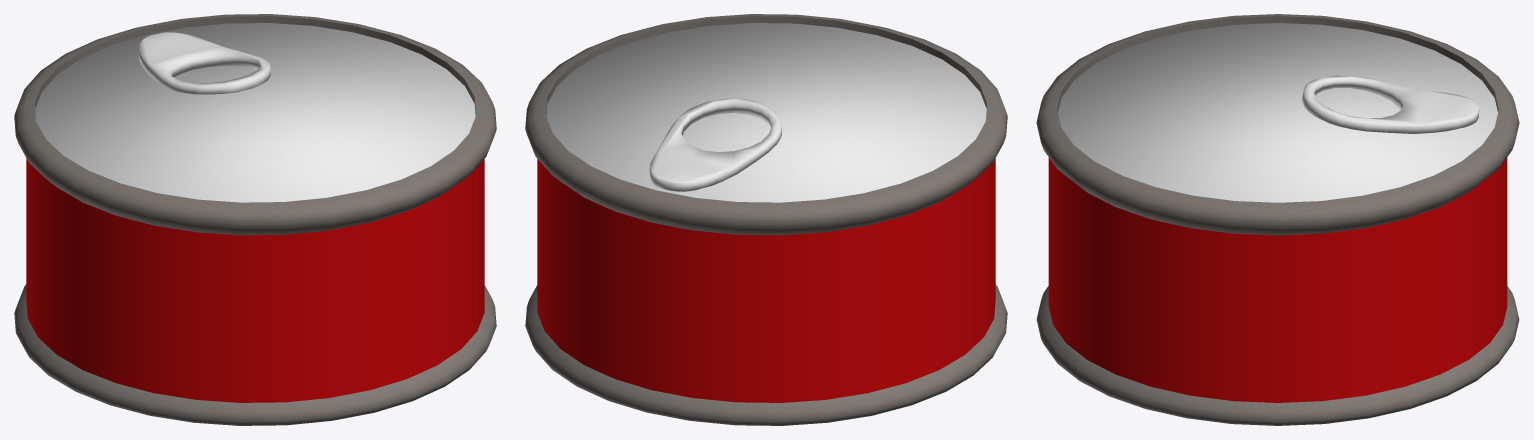
Rendered from F_Can_02.fbx.
The picture shows the model from 3 angles, left to right: view 1: azimuth 30°, elevation 25°; view 2: azimuth 150°, elevation 25°; view 3: azimuth 270°, elevation 25°; orthographic projection.
Visible parts, largest first — view 1: F_Can_02, F_Lid_02; view 2: F_Can_02, F_Lid_02; view 3: F_Can_02, F_Lid_02.
Part boxes in pixels (x1=…): F_Can_02: x1=14, y1=14, x2=496, y2=425; F_Lid_02: x1=35, y1=23, x2=475, y2=202; F_Can_02: x1=525, y1=14, x2=1007, y2=425; F_Lid_02: x1=546, y1=23, x2=986, y2=202; F_Can_02: x1=1036, y1=14, x2=1519, y2=425; F_Lid_02: x1=1058, y1=23, x2=1497, y2=202.
Size of the model in its own units: 7.88 by 4.25 by 7.88.
